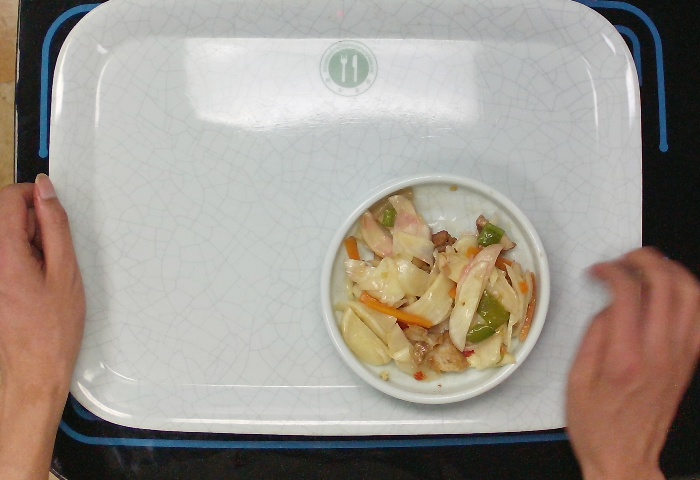JYsf-Xiao_Yuan_Pan: (316, 169, 558, 407)
